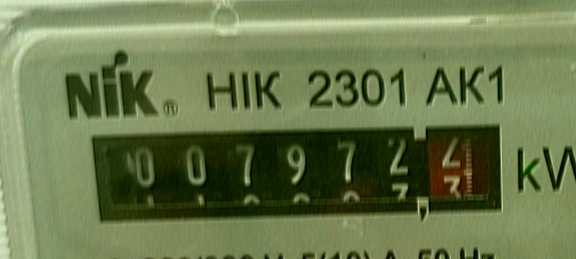0: (131, 145, 158, 187), (183, 143, 208, 185)
2: (386, 137, 410, 175), (438, 136, 461, 170)
3: (440, 173, 463, 199)
7: (334, 138, 360, 185), (233, 142, 258, 187)
9: (284, 141, 307, 185)
screen: (75, 112, 519, 236)
